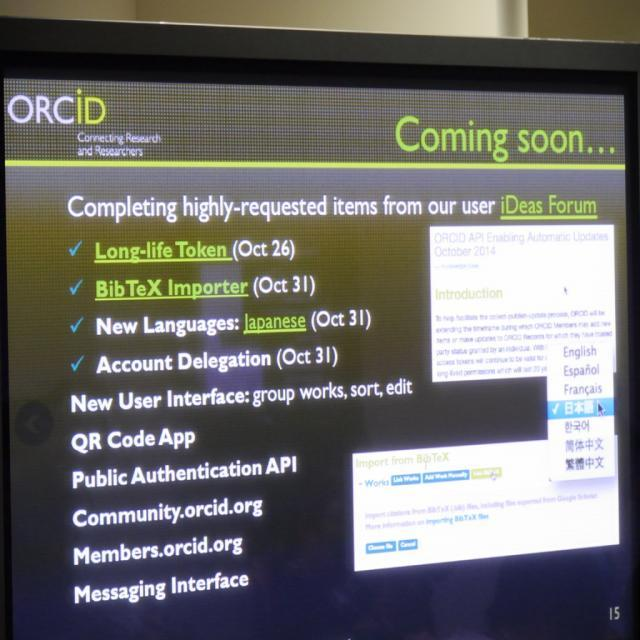others: (1, 18, 640, 634)
